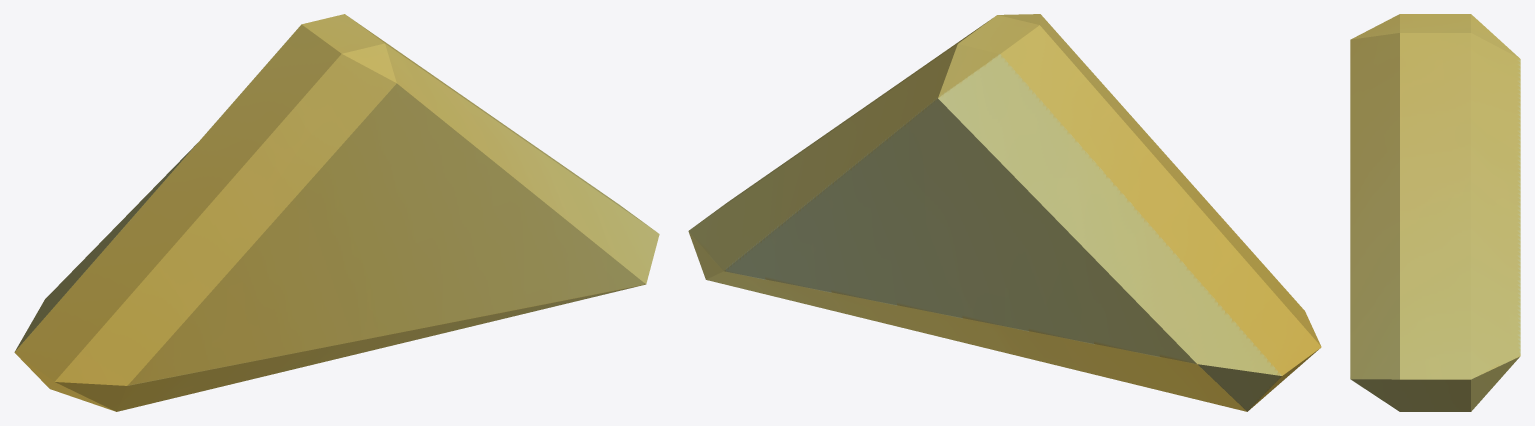
The model's file is TriangleBlock.fbx.
3 views of the same model, side by side, from view 1: azimuth 30°, elevation 25°; view 2: azimuth 150°, elevation 25°; view 3: azimuth 270°, elevation 25° (orthographic). The views are drawn at different scales.
Visible parts, largest first — view 1: Cube.013; view 2: Cube.013; view 3: Cube.013.
Boxes of the visible parts, x1,y1,x2,y2 form: Cube.013: [14, 14, 659, 411]; Cube.013: [688, 14, 1321, 411]; Cube.013: [1350, 14, 1520, 411].
Size of the model in its own units: 108 by 51.52 by 29.6.
